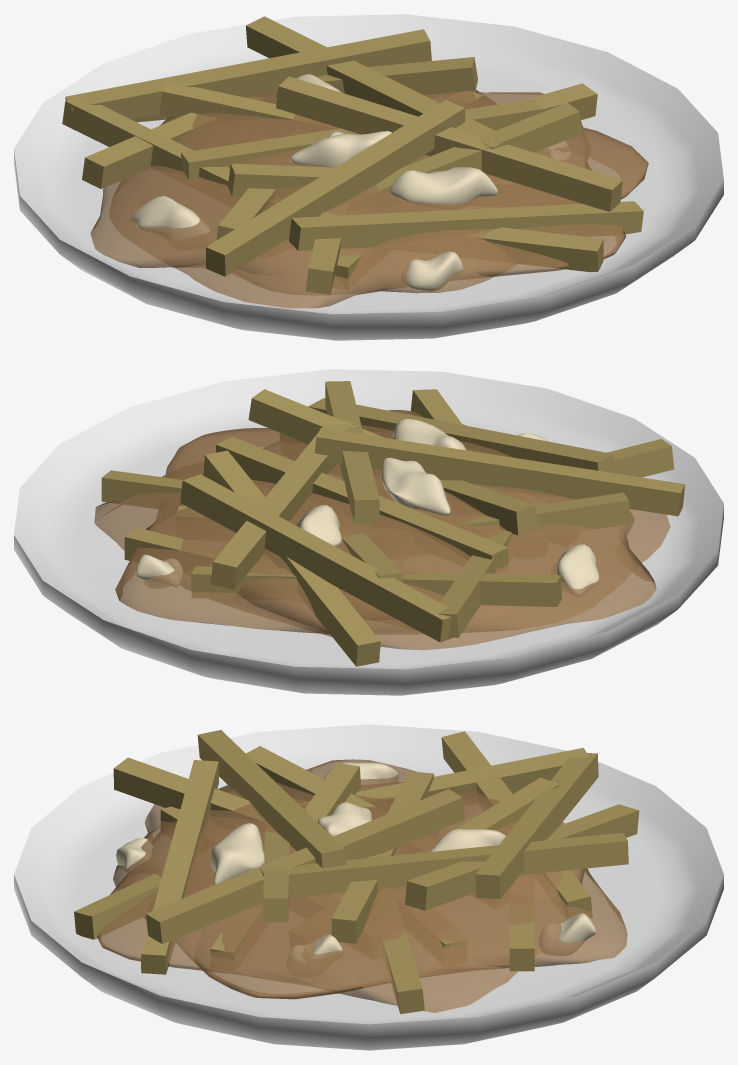
File: PoutineGeo.fbx
3 views of the same model, one above another, from view 1: azimuth 30°, elevation 25°; view 2: azimuth 150°, elevation 25°; view 3: azimuth 270°, elevation 25° (orthographic).
Visible parts, largest first — view 1: PoutineGeo; view 2: PoutineGeo; view 3: PoutineGeo.
Boxes of the visible parts, x1,y1,x2,y2 form: PoutineGeo: (14,14,723,340); PoutineGeo: (14,369,723,695); PoutineGeo: (14,724,723,1050).
Size of the model in its own units: 70.15 by 11.74 by 70.15.
